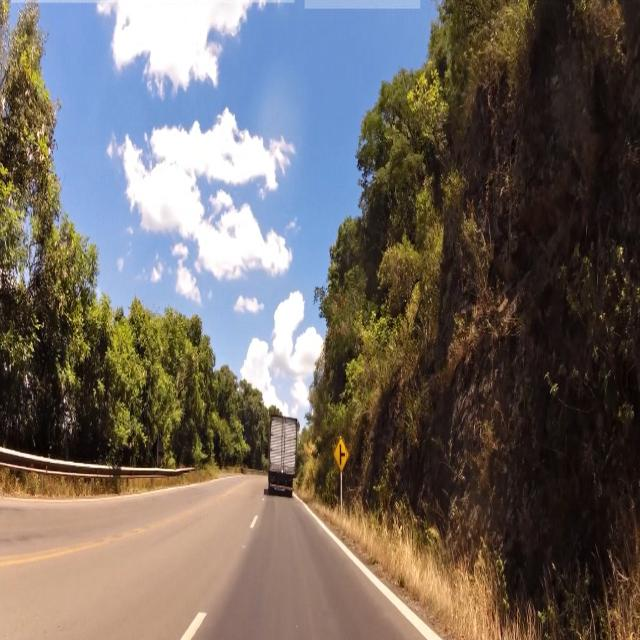A-7b: (332, 436, 351, 474)
